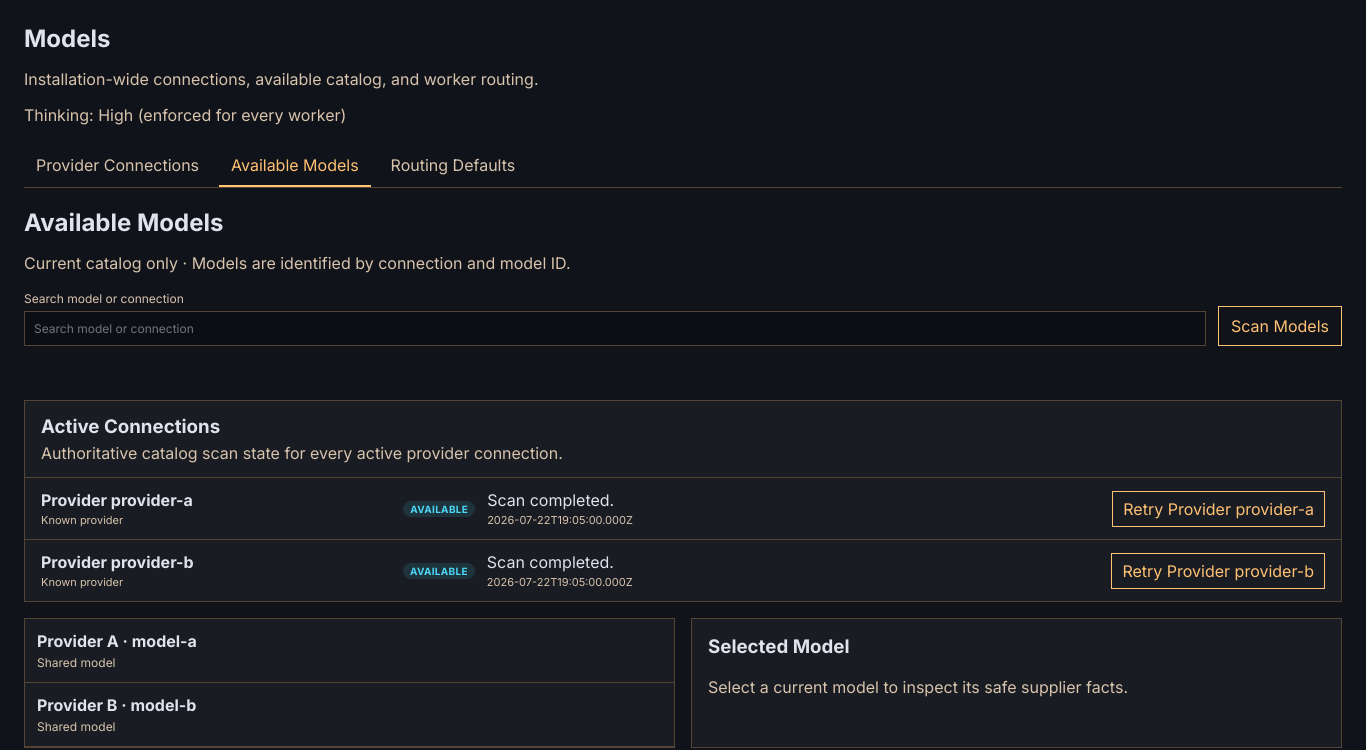
Test: ModelsDestination › keeps a selected overlap in progress without changing model identity or unrelated retry controls
Click the option "Provider A · model-a Shared model" at [78, 641], box [25,619,674,683]
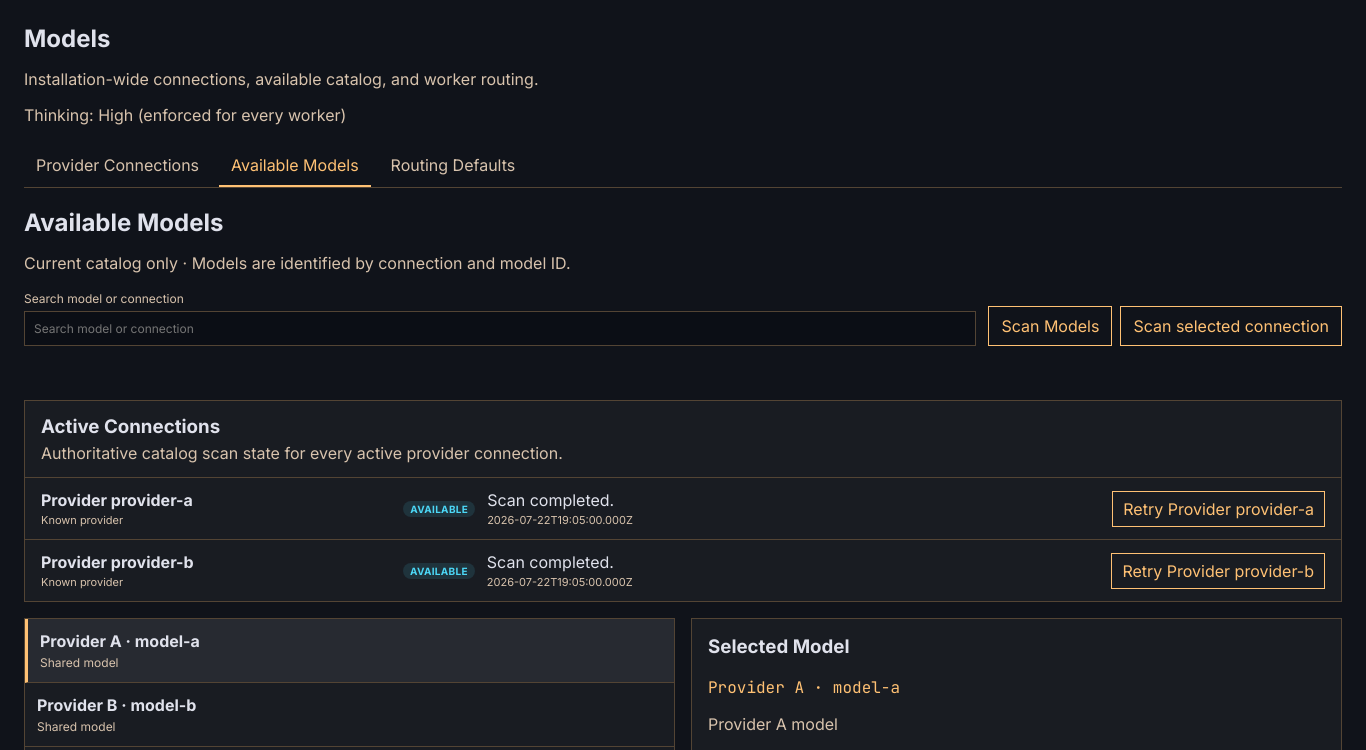
Click the button "Scan selected connection" at [1231, 326], box [1120,306,1342,346]
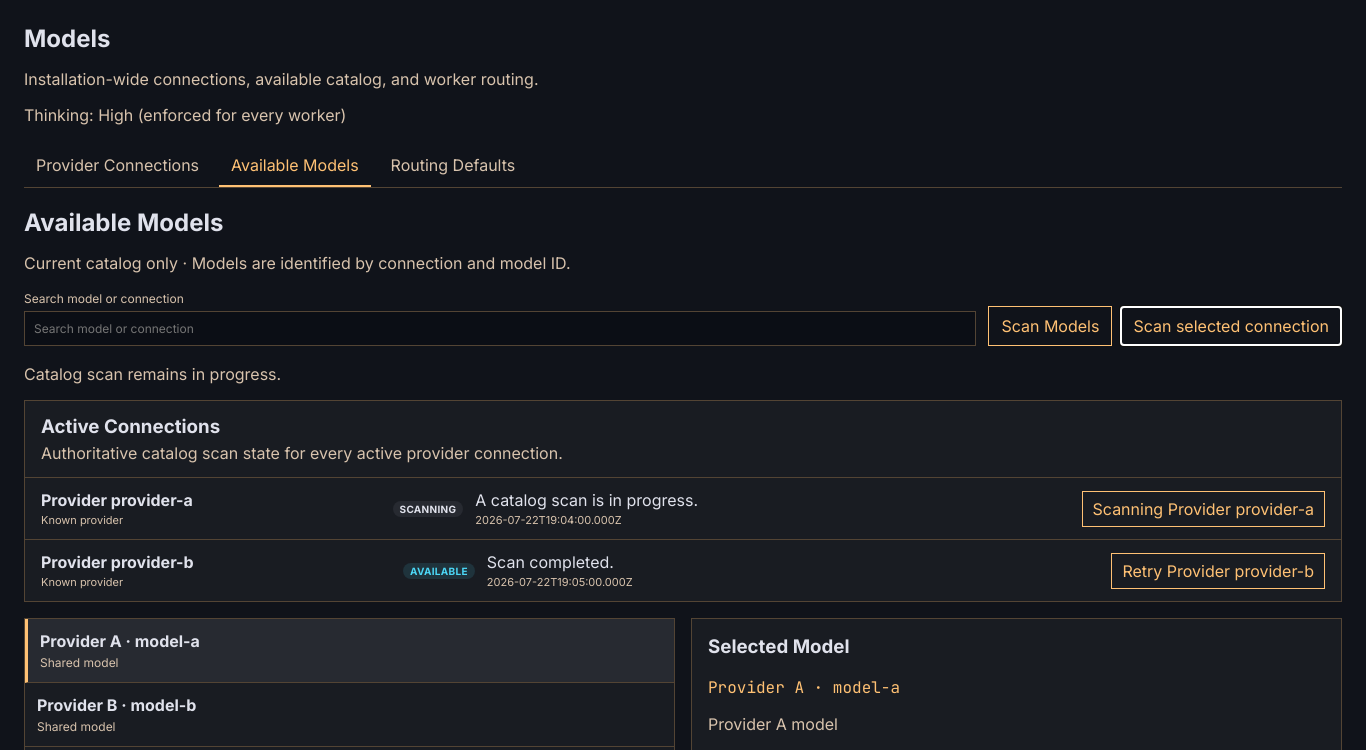
Expected: the text "Catalog scan remains in progress." is shown, [24,364,281,384]
Expected: the text named "Catalog scan state: Scanning" is shown, [393,500,463,516]
Expected: the button "Scanning Provider provider-a" is disabled, [1082,490,1325,526]
